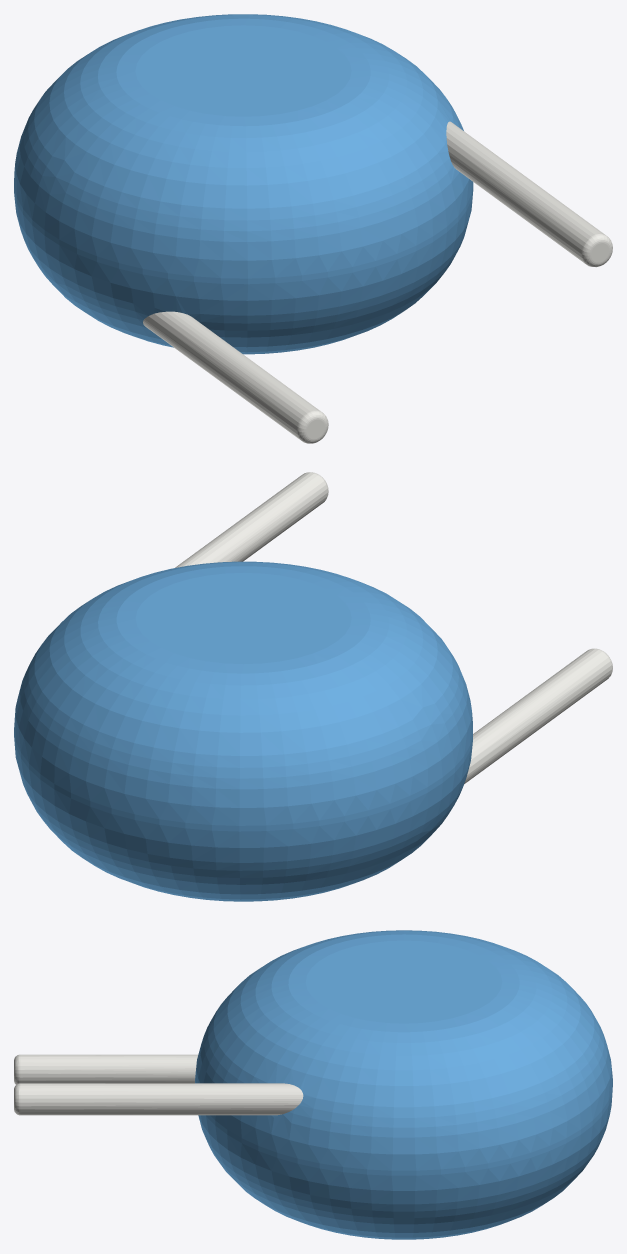
The model's file is RV_Disc_D7mm_W3.8mm_P5mm.glb.
3 views of the same model, one above another, from view 1: azimuth 30°, elevation 25°; view 2: azimuth 150°, elevation 25°; view 3: azimuth 270°, elevation 25° (orthographic). The views are drawn at different scales.
Parts seen in each view (by area): view 1: Shape_IndexedFaceSet.001, Shape_IndexedFaceSet.002, Shape_IndexedFaceSet.003, Shape_IndexedFaceSet.006, Shape_IndexedFaceSet.004, Shape_IndexedFaceSet, Shape_IndexedFaceSet.008, Shape_IndexedFaceSet.007; view 2: Shape_IndexedFaceSet.001, Shape_IndexedFaceSet.002, Shape_IndexedFaceSet.003, Shape_IndexedFaceSet.006, Shape_IndexedFaceSet.004, Shape_IndexedFaceSet; view 3: Shape_IndexedFaceSet.001, Shape_IndexedFaceSet.002, Shape_IndexedFaceSet.003, Shape_IndexedFaceSet.004, Shape_IndexedFaceSet.006, Shape_IndexedFaceSet.
Boxes of the visible parts, x1=… form: Shape_IndexedFaceSet.001: x1=14, y1=14, x2=473, y2=278; Shape_IndexedFaceSet.002: x1=14, y1=190, x2=473, y2=354; Shape_IndexedFaceSet.003: x1=135, y1=25, x2=351, y2=116; Shape_IndexedFaceSet.006: x1=143, y1=311, x2=320, y2=439; Shape_IndexedFaceSet.004: x1=446, y1=121, x2=604, y2=263; Shape_IndexedFaceSet: x1=14, y1=184, x2=473, y2=284; Shape_IndexedFaceSet.008: x1=297, y1=410, x2=328, y2=443; Shape_IndexedFaceSet.007: x1=581, y1=234, x2=612, y2=267; Shape_IndexedFaceSet.001: x1=14, y1=561, x2=472, y2=825; Shape_IndexedFaceSet.002: x1=14, y1=736, x2=472, y2=901; Shape_IndexedFaceSet.003: x1=135, y1=572, x2=351, y2=664; Shape_IndexedFaceSet.006: x1=464, y1=649, x2=611, y2=783; Shape_IndexedFaceSet.004: x1=175, y1=472, x2=327, y2=567; Shape_IndexedFaceSet: x1=14, y1=731, x2=472, y2=831; Shape_IndexedFaceSet.001: x1=195, y1=930, x2=612, y2=1170; Shape_IndexedFaceSet.002: x1=198, y1=1092, x2=612, y2=1239; Shape_IndexedFaceSet.003: x1=305, y1=940, x2=502, y2=1023; Shape_IndexedFaceSet.004: x1=20, y1=1083, x2=303, y2=1115; Shape_IndexedFaceSet.006: x1=20, y1=1054, x2=197, y2=1083; Shape_IndexedFaceSet: x1=195, y1=1082, x2=612, y2=1175.
Bounding box in the file's own units: 2.75 × 1.5 × 3.95.
